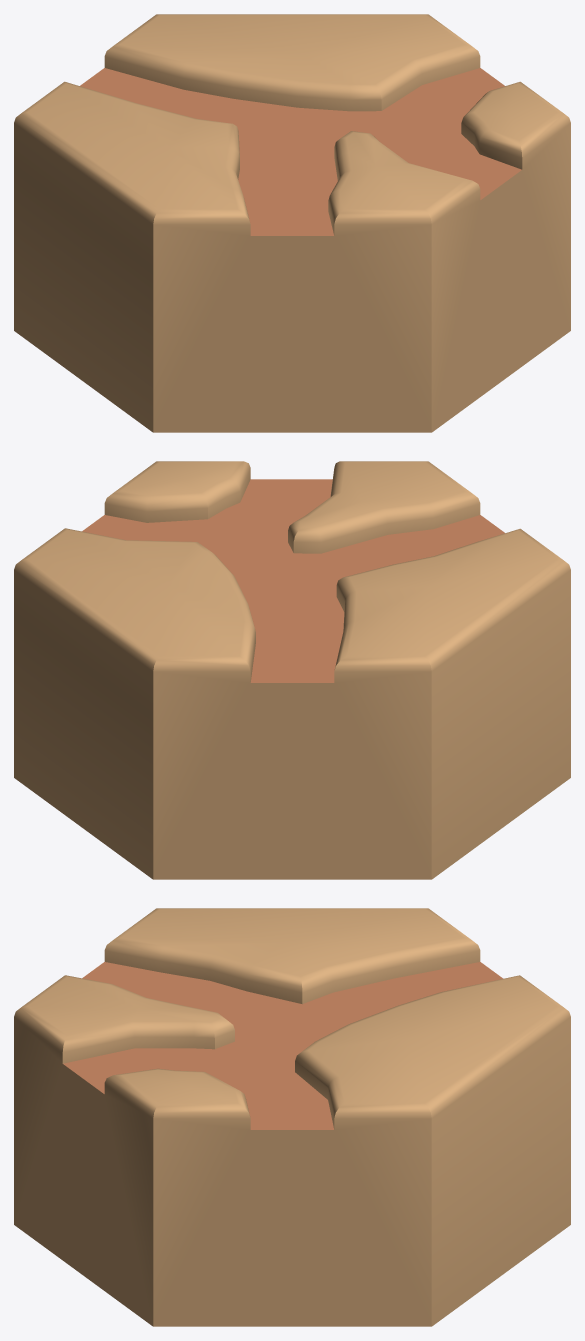
Rendered from hex_sand_roadI.glb.
The picture shows the model from 3 angles, top to bottom: view 1: azimuth 30°, elevation 25°; view 2: azimuth 150°, elevation 25°; view 3: azimuth 270°, elevation 25°; orthographic projection.
Visible parts, largest first — view 1: hex_sand_roadI; view 2: hex_sand_roadI; view 3: hex_sand_roadI.
Boxes of the visible parts, x1,y1,x2,y2 form: hex_sand_roadI: (14,14,570,432); hex_sand_roadI: (14,461,570,879); hex_sand_roadI: (14,908,570,1326).
Size of the model in its own units: 2 by 1 by 2.31.
